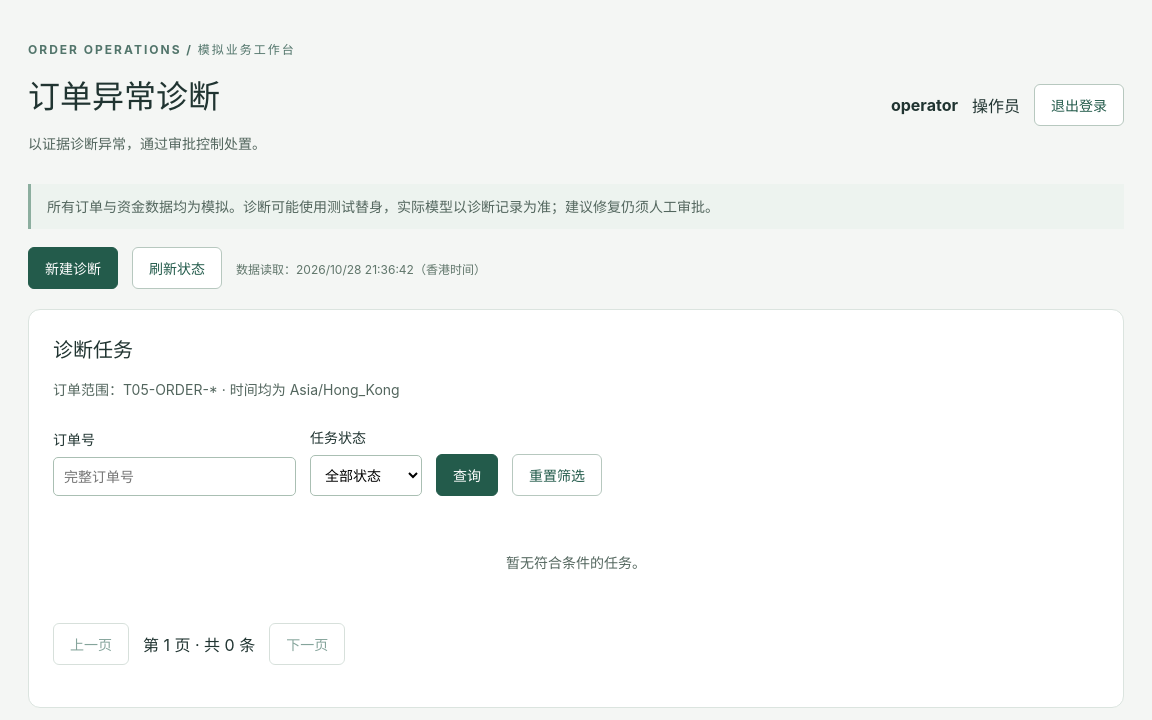
Scenario: 创建期间禁止重复提交，网络失败沿用幂等键，复用后进入原详情
The width and height of the screenshot is (1152, 720).
Click the button "新建诊断": (73, 268) [28, 247, 118, 289]
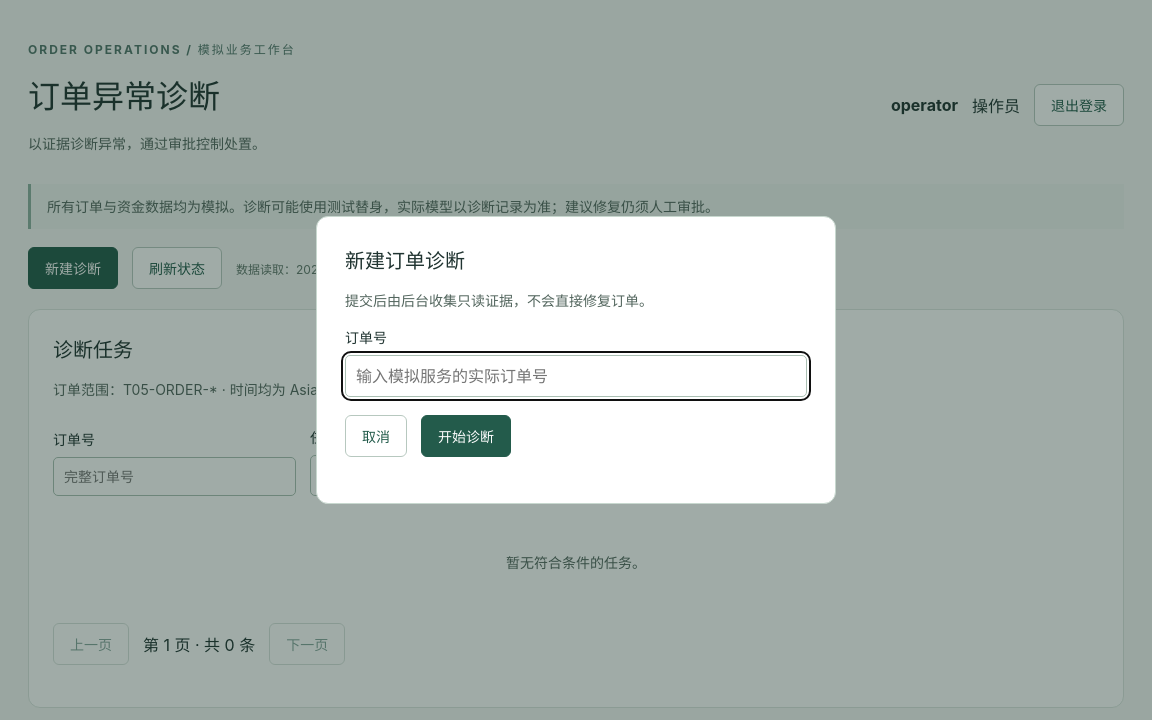
In the field with id "new-order": (576, 376) [345, 355, 807, 397], type "T05-ORDER-001"
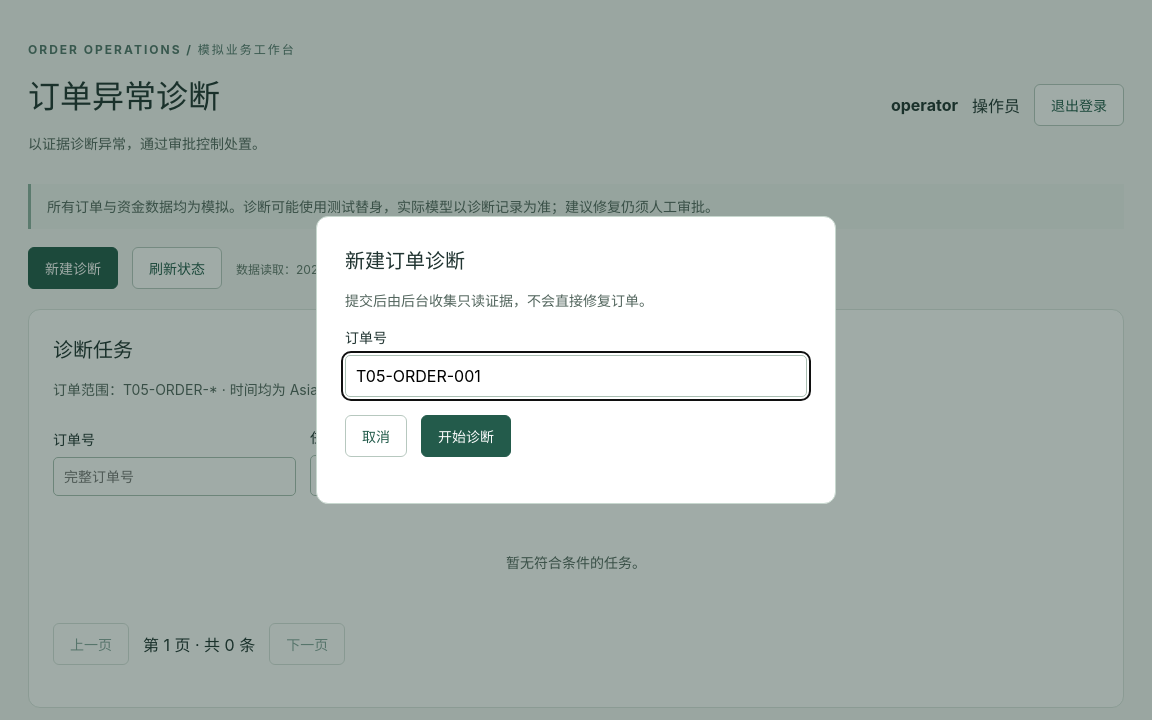
Submit the form, box [345, 245, 807, 457]
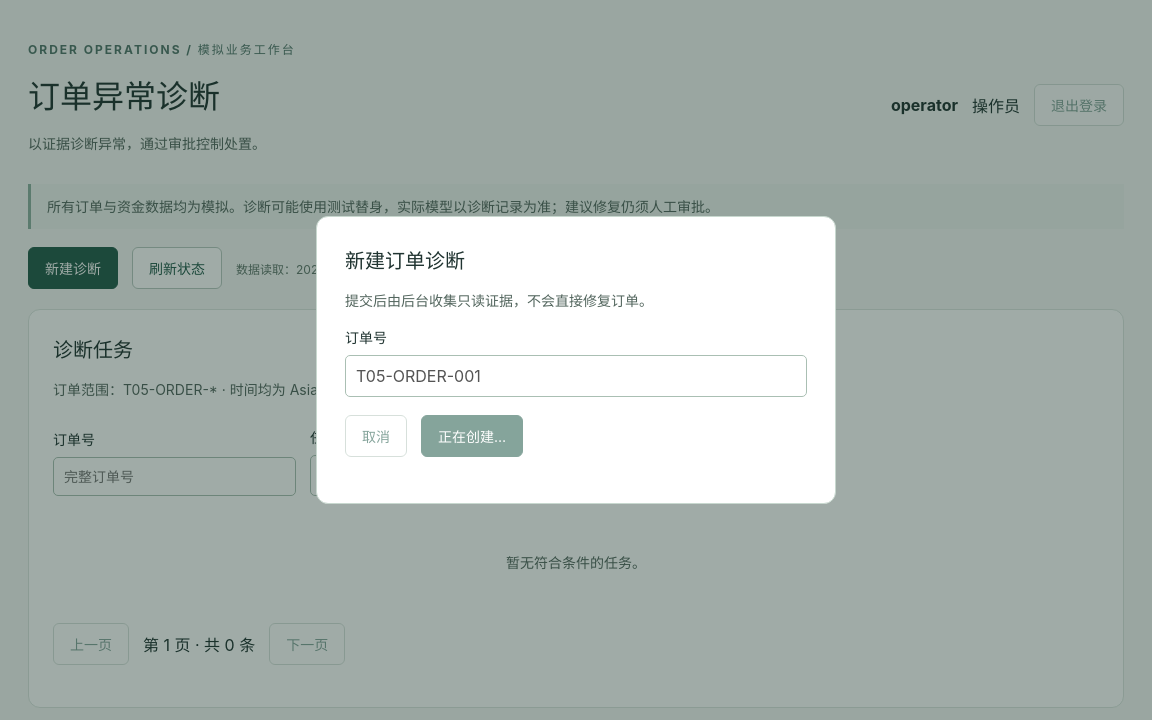
Now the button "正在创建…" is disabled, box [421, 415, 523, 457]
Submit the form, box [345, 245, 807, 457]
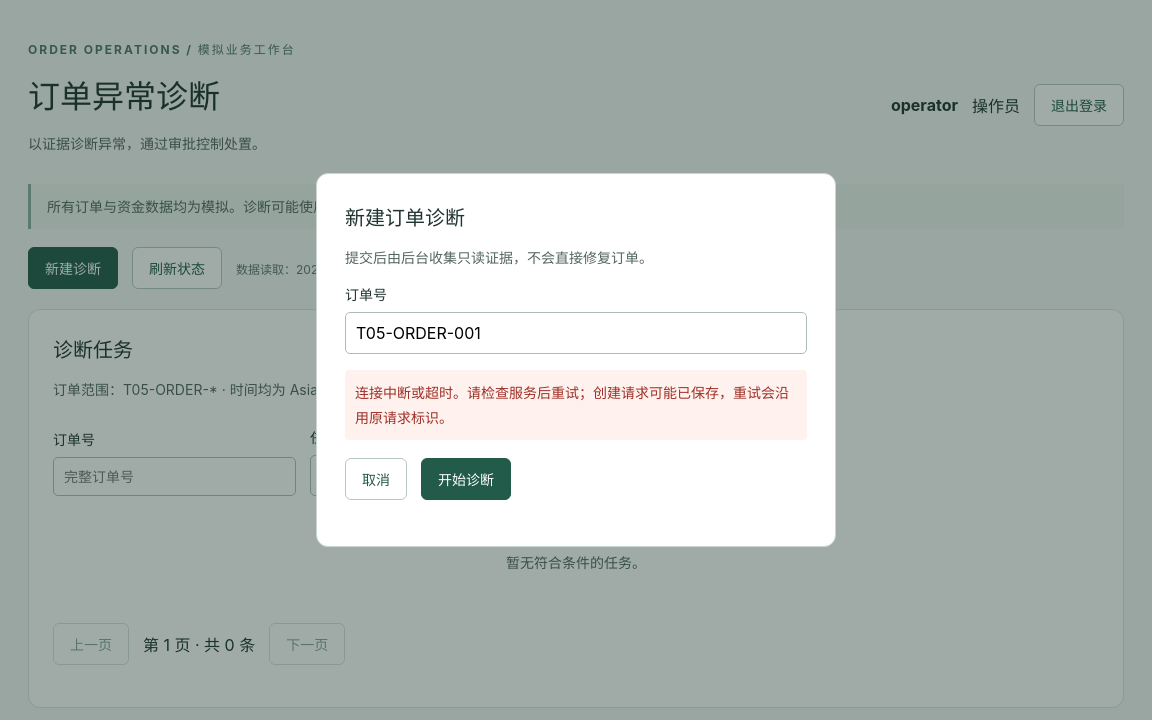
Now the text "创建请求可能已保存" is shown, box [355, 384, 789, 426]
Submit the form, box [345, 202, 807, 500]
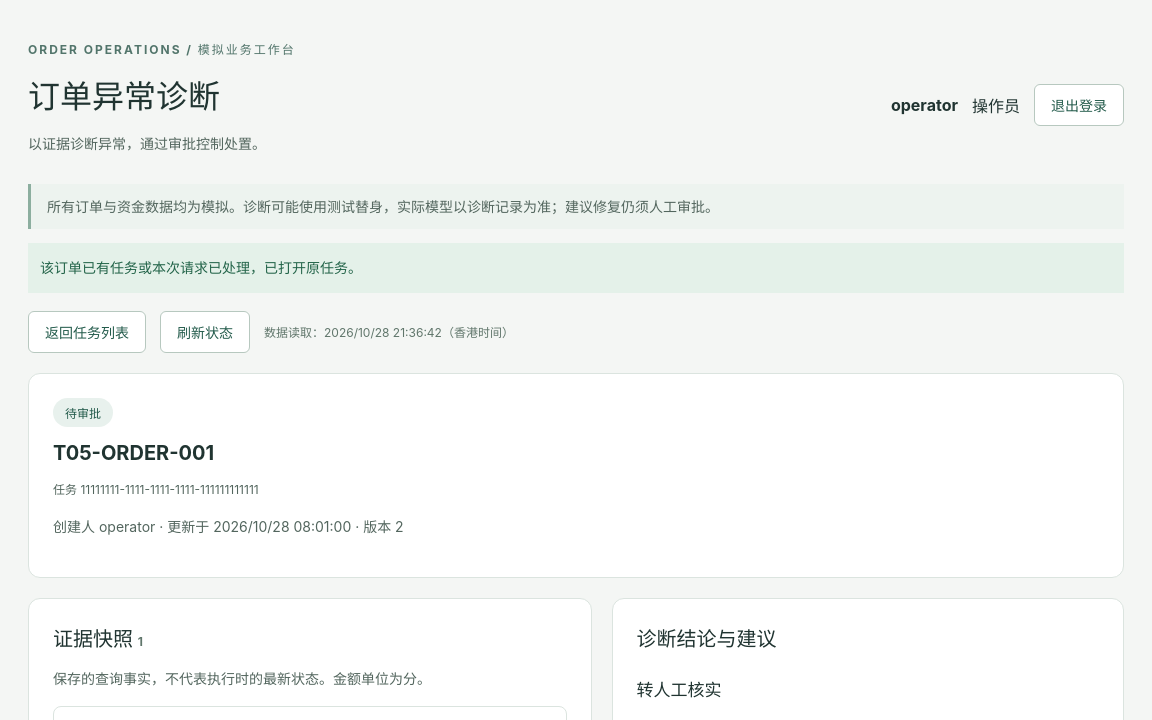
Now the text "已打开原任务" is shown, box [40, 259, 362, 276]
